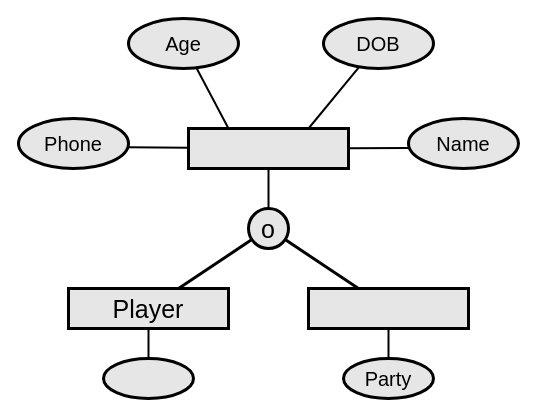
Some shapes in this 537 by 417 pixel diagram are drawn without their labels. The shapes that lost their labels are listed below. From the top down, each one's centre as x and y in pixels, then its label:
At (268,148): "Celebrity".
At (388,308): "Politician".
At (148,378): "Team".
